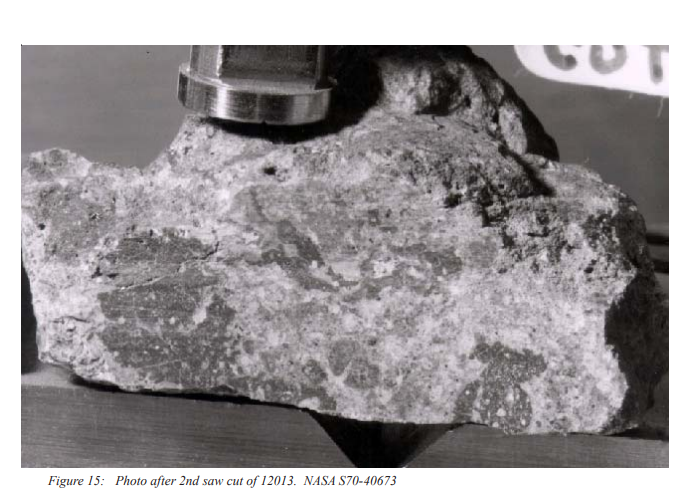Breccia: (16, 96, 658, 435)
